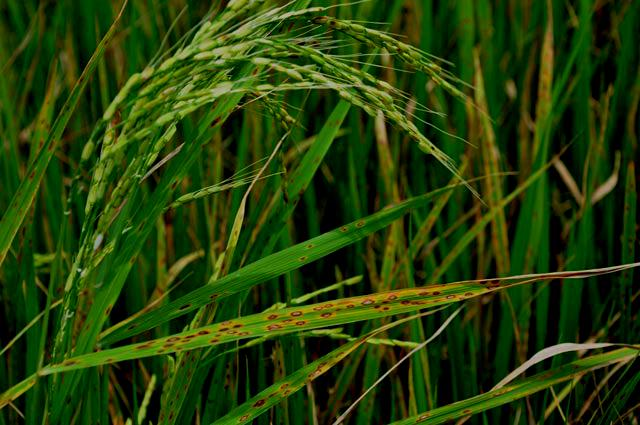0 BrownSpot: (336, 215, 372, 234), (314, 303, 336, 318), (293, 180, 310, 197), (59, 355, 84, 366), (135, 339, 160, 350), (167, 174, 183, 190), (274, 385, 297, 396), (315, 360, 334, 372), (13, 200, 28, 215), (360, 294, 376, 308), (177, 300, 198, 310), (209, 288, 225, 301), (379, 300, 395, 313), (210, 115, 226, 127), (102, 304, 115, 318), (385, 291, 401, 302), (406, 298, 422, 309), (165, 335, 183, 344), (252, 398, 268, 408), (28, 167, 39, 181), (261, 312, 279, 320), (290, 308, 305, 317), (45, 137, 55, 150), (215, 325, 232, 332), (41, 116, 50, 129), (167, 397, 176, 409), (126, 323, 139, 331), (209, 337, 221, 345), (195, 329, 210, 335), (168, 410, 176, 421), (297, 254, 308, 262), (175, 342, 184, 351), (104, 355, 114, 363), (230, 321, 240, 329), (130, 250, 136, 263), (303, 244, 316, 250), (85, 320, 92, 330), (64, 103, 71, 112), (180, 358, 186, 367), (182, 383, 189, 390)
